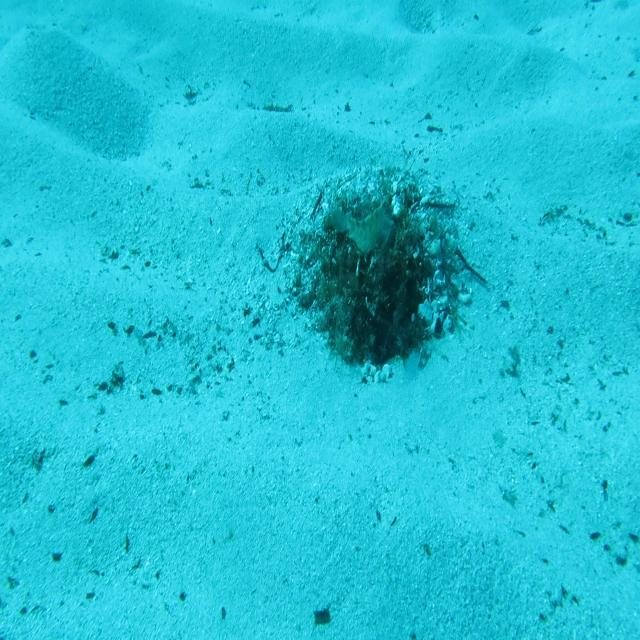NIP_CORE: (327, 194, 394, 260)
core_nest: (345, 188, 418, 245)
nest: (272, 158, 476, 390)
